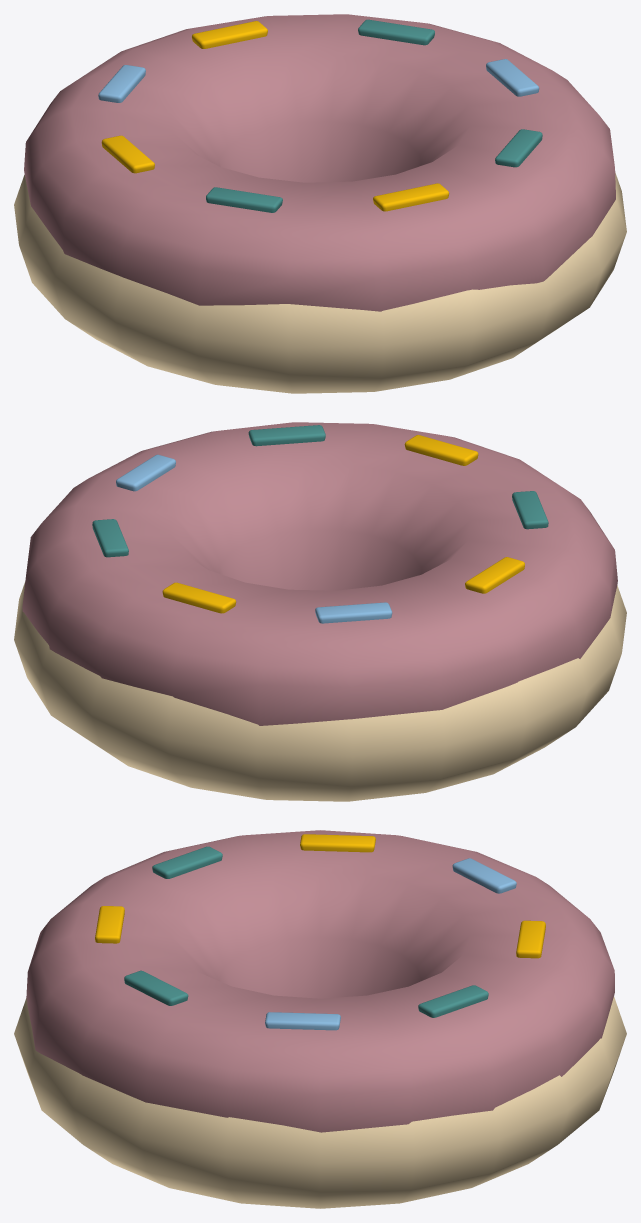
File: Donut_1B.fbx
The picture shows the model from 3 angles, top to bottom: view 1: azimuth 30°, elevation 25°; view 2: azimuth 150°, elevation 25°; view 3: azimuth 270°, elevation 25°; orthographic projection.
Visible parts, largest first — view 1: Donut_1B; view 2: Donut_1B; view 3: Donut_1B.
Boxes of the visible parts, x1=… form: Donut_1B: x1=14, y1=14, x2=626, y2=393; Donut_1B: x1=14, y1=422, x2=626, y2=801; Donut_1B: x1=14, y1=830, x2=626, y2=1208.
Size of the model in its own units: 0.1186 by 0.0388 by 0.1186.
